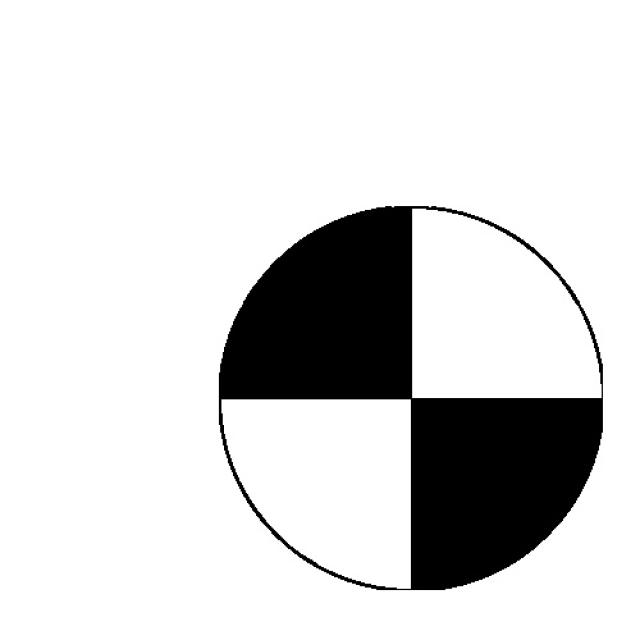Marcadores: (218, 207, 604, 591)
